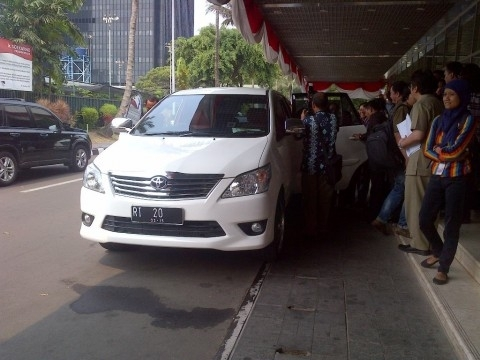plate: (130, 205, 183, 225)
